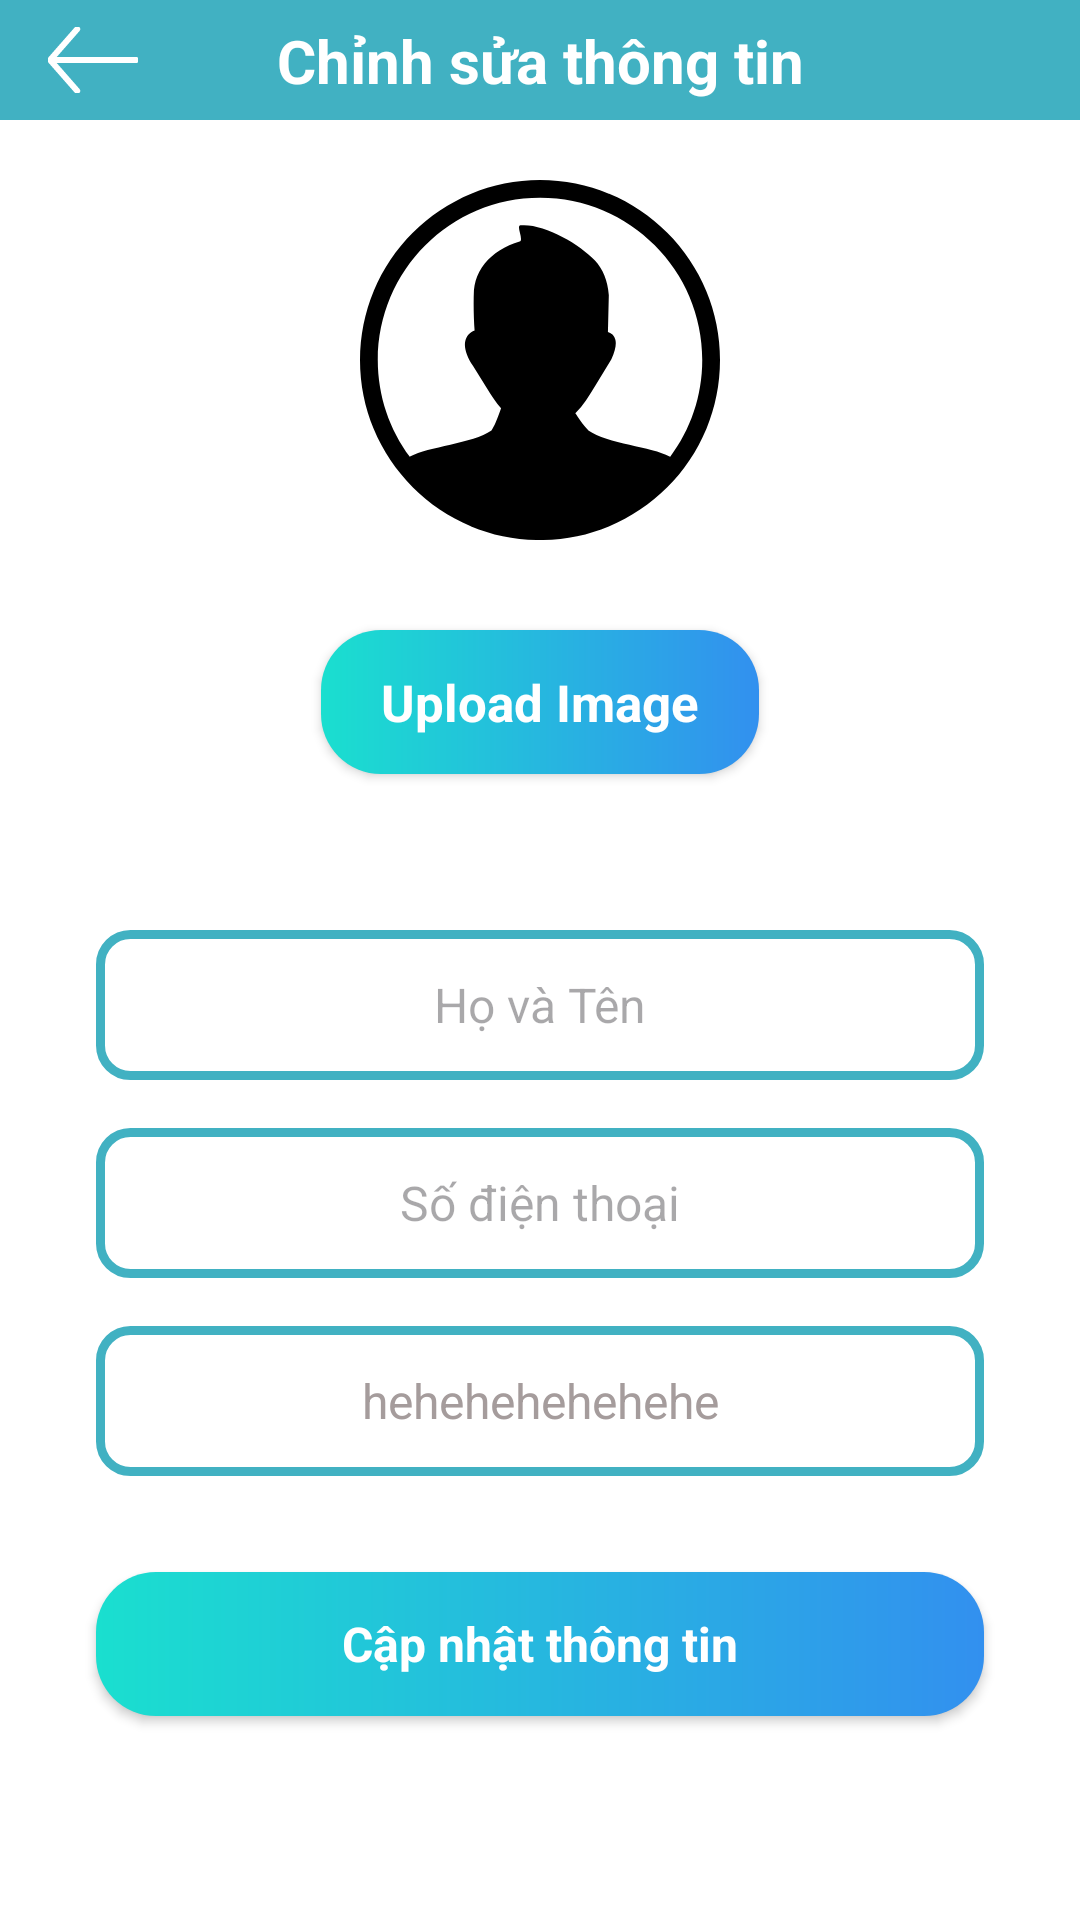

Named icons in this screenshot (1080px x 1920px) and their bounding boxes, {"x1": x1, "y1": y1, "x2": x2, "y2": y2}:
back arrow: {"x1": 48, "y1": 27, "x2": 138, "y2": 93}
user profile: {"x1": 360, "y1": 180, "x2": 720, "y2": 540}
